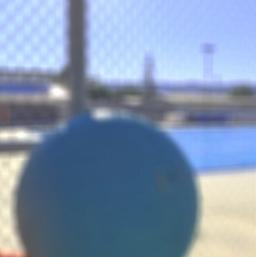algae: (9, 108, 204, 257)
